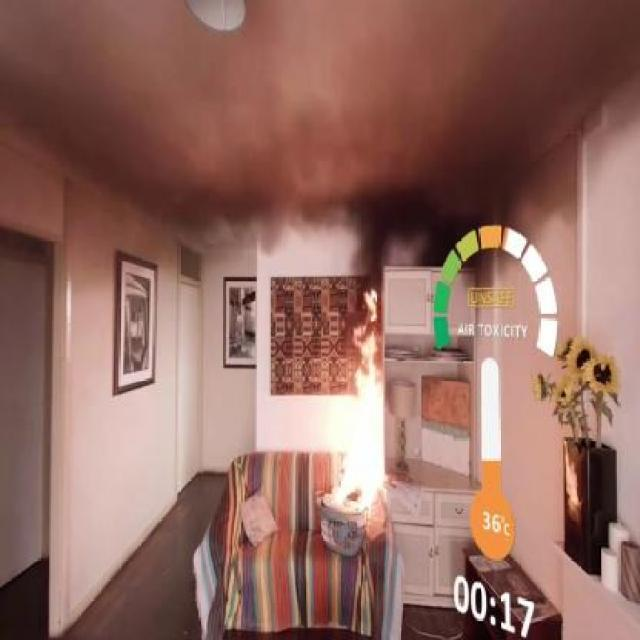fire: (314, 304, 392, 573)
smoke: (184, 123, 518, 257)
